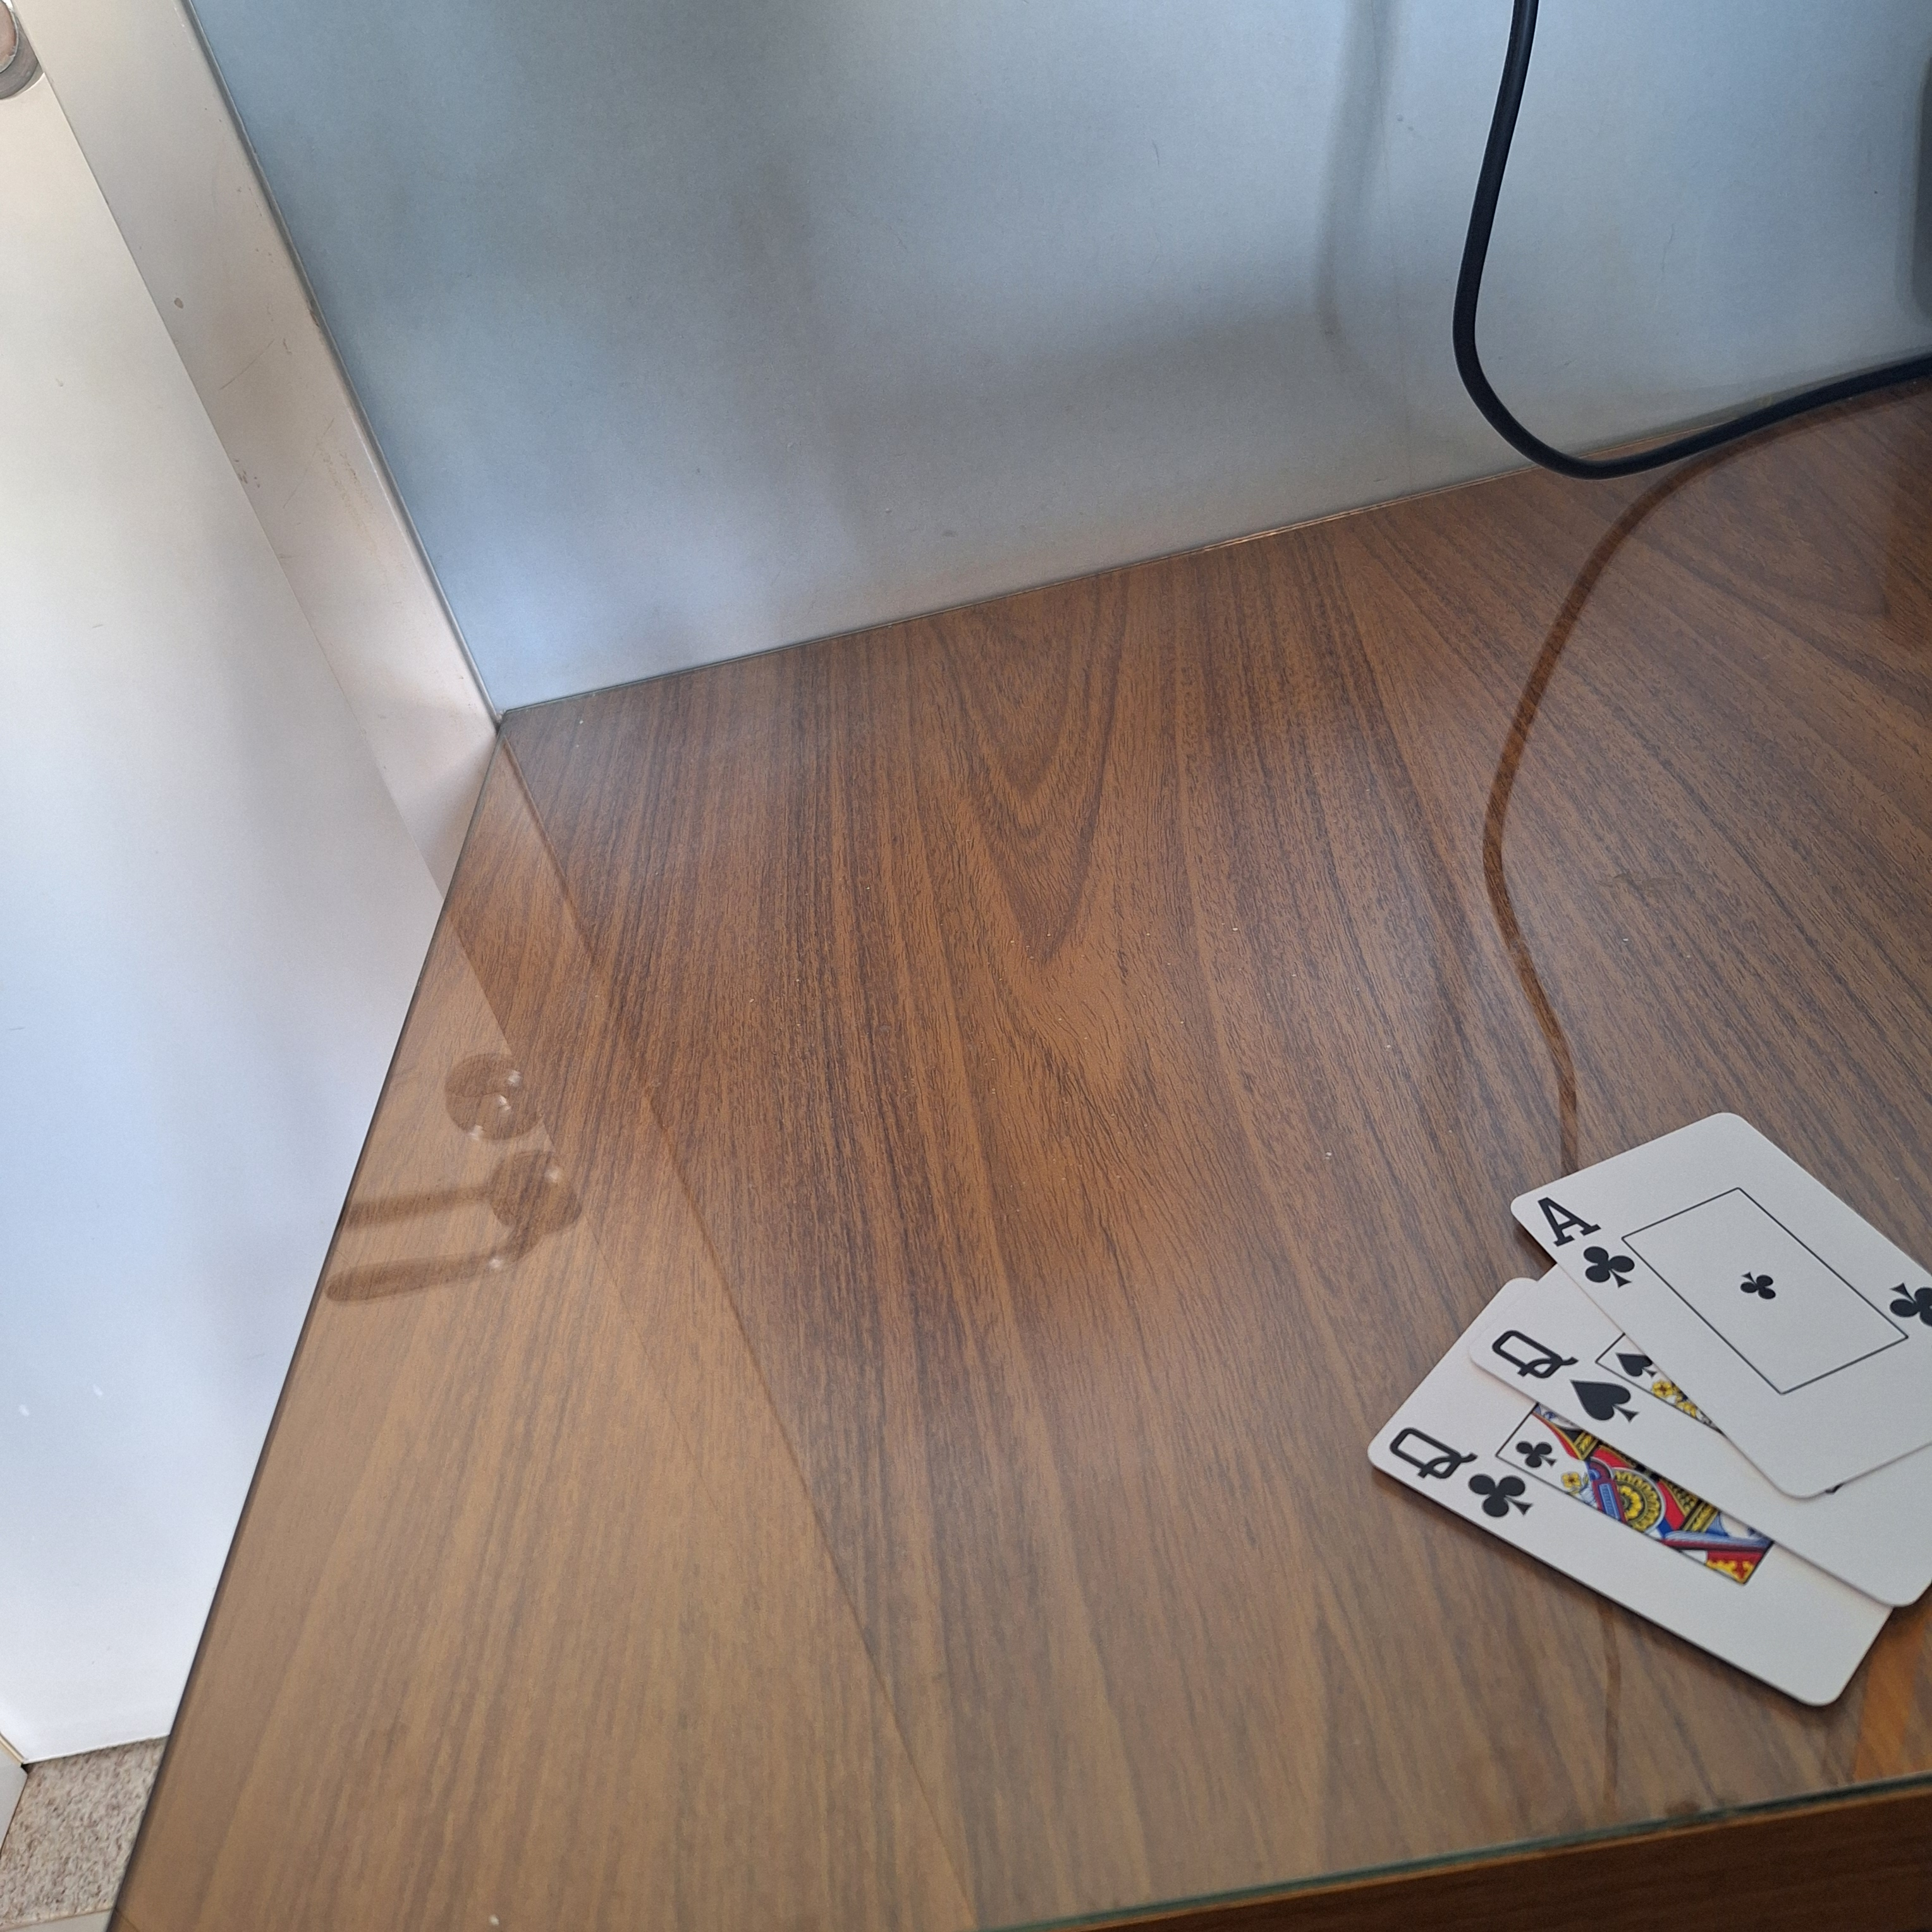AP: (1530, 1187, 1644, 1293)
QE: (1486, 1320, 1642, 1430)
QP: (1376, 1415, 1537, 1536)
